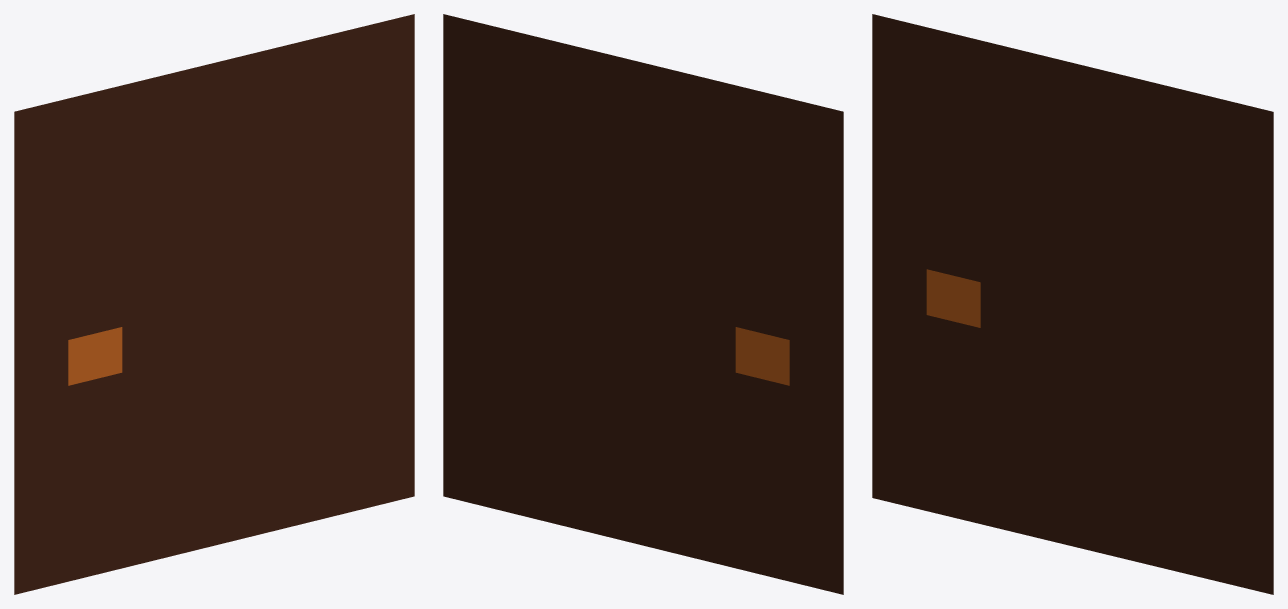
File: Puerta 1.fbx
The picture shows the model from 3 angles, left to right: view 1: azimuth 30°, elevation 25°; view 2: azimuth 150°, elevation 25°; view 3: azimuth 330°, elevation 25°; orthographic projection.
Parts seen in each view (by area): view 1: Cube.005; view 2: Cube.005; view 3: Cube.005.
Part boxes in pixels (bbox=[...]): Cube.005: bbox=[14, 14, 414, 594]; Cube.005: bbox=[443, 14, 843, 594]; Cube.005: bbox=[872, 14, 1273, 594].
Size of the model in its own units: 300 by 346 by 0.
1 material, 1 textured.
